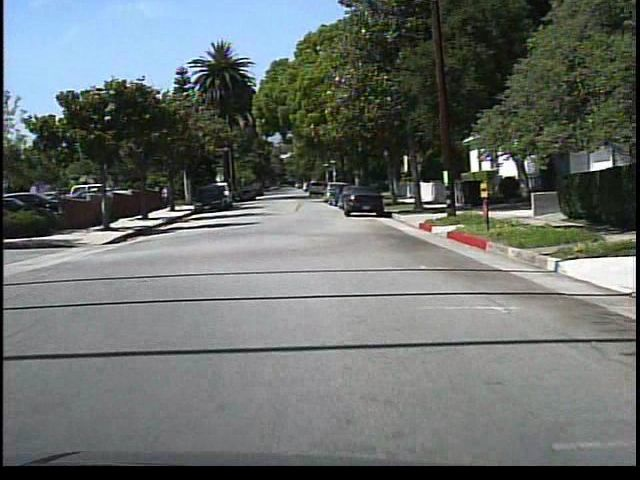person: (160, 182, 174, 209)
